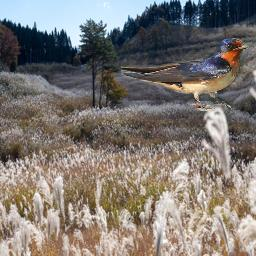Swallow: (121, 38, 249, 111)
